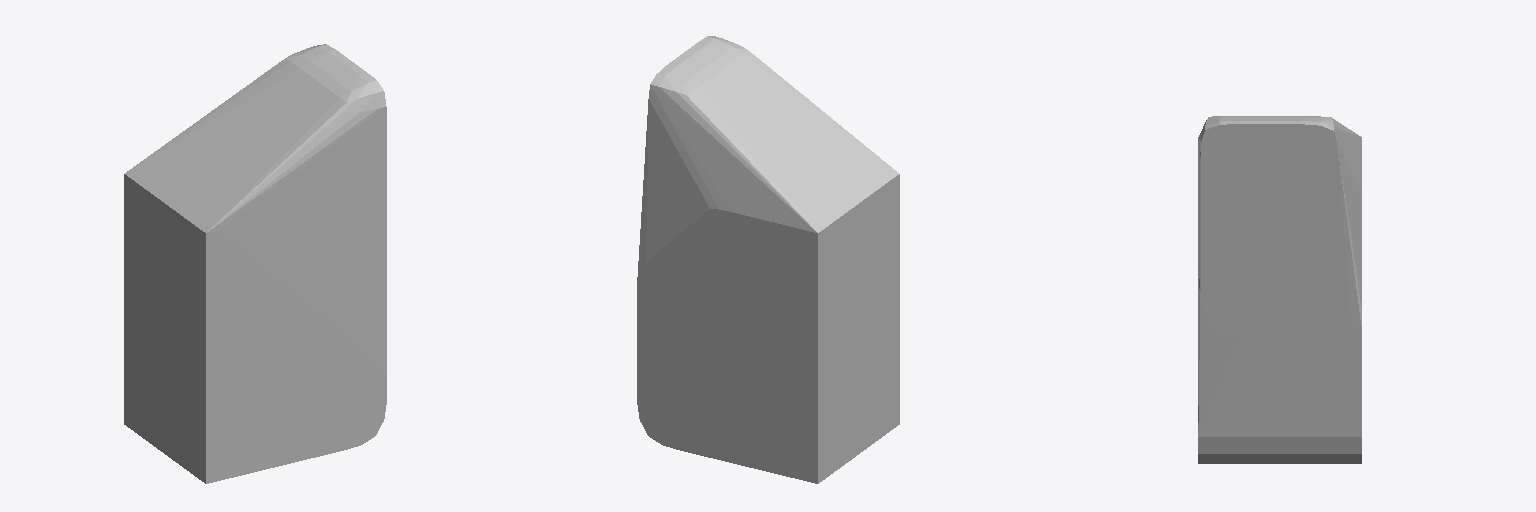
Rendered from block_2_collision_6.obj.
3 views of the same model, side by side, from view 1: azimuth 30°, elevation 25°; view 2: azimuth 150°, elevation 25°; view 3: azimuth 270°, elevation 25° (orthographic).
Size of the model in its own units: 0.0165 by 0.0306 by 0.0128.